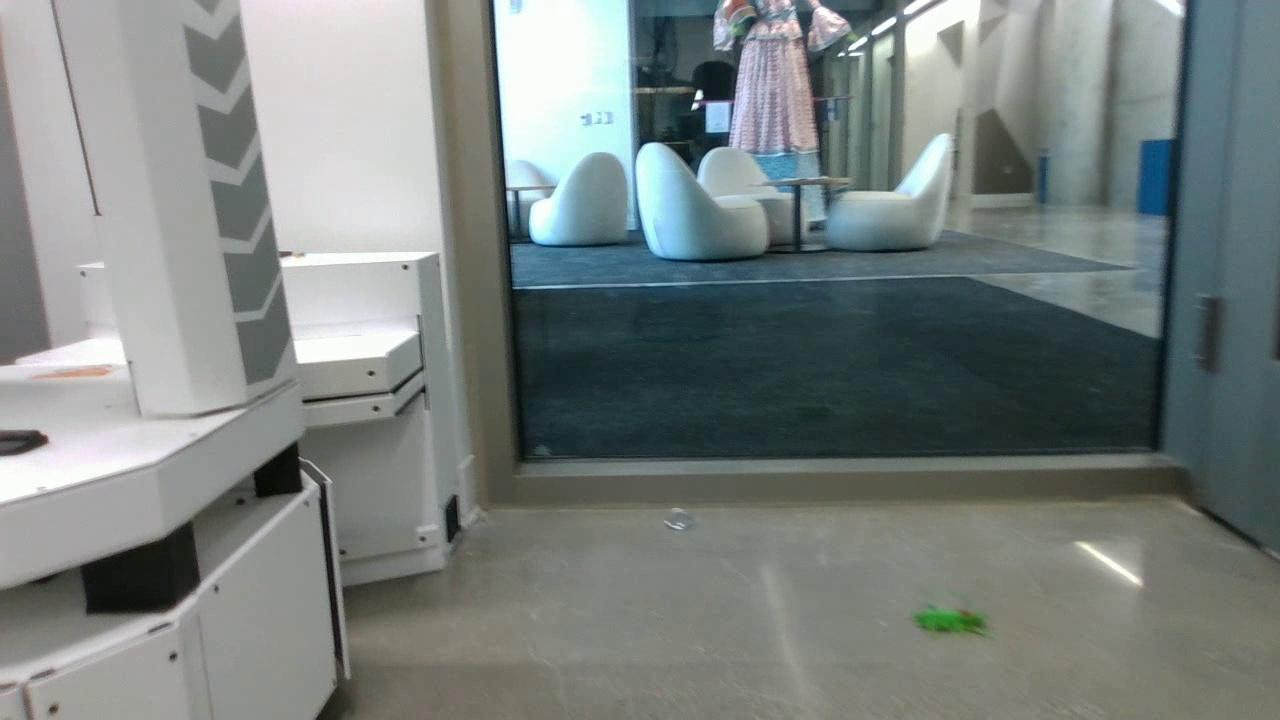grasshopper: (908, 601, 998, 638)
